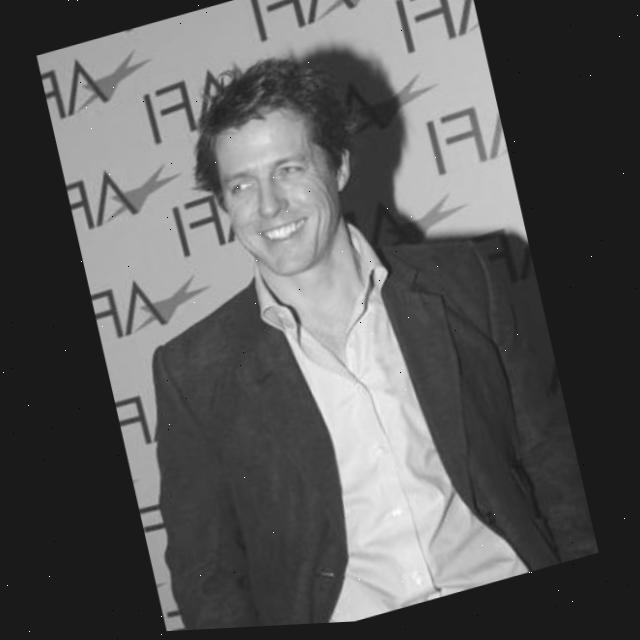face: (197, 77, 376, 292)
